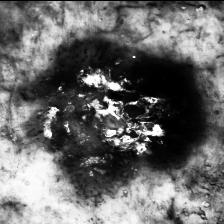Potentially Malignant Skin Tumors: (19, 31, 202, 210)
